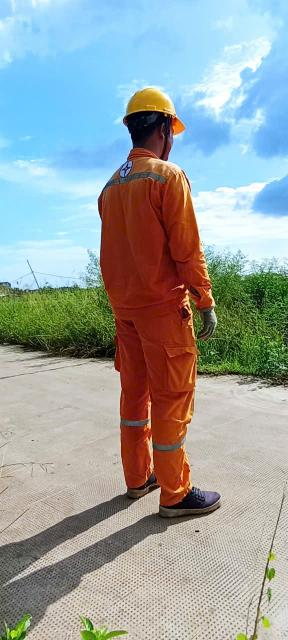gloves: (189, 295, 230, 347)
helmet: (111, 74, 200, 147)
shoes: (152, 481, 226, 522), (114, 467, 176, 500)
